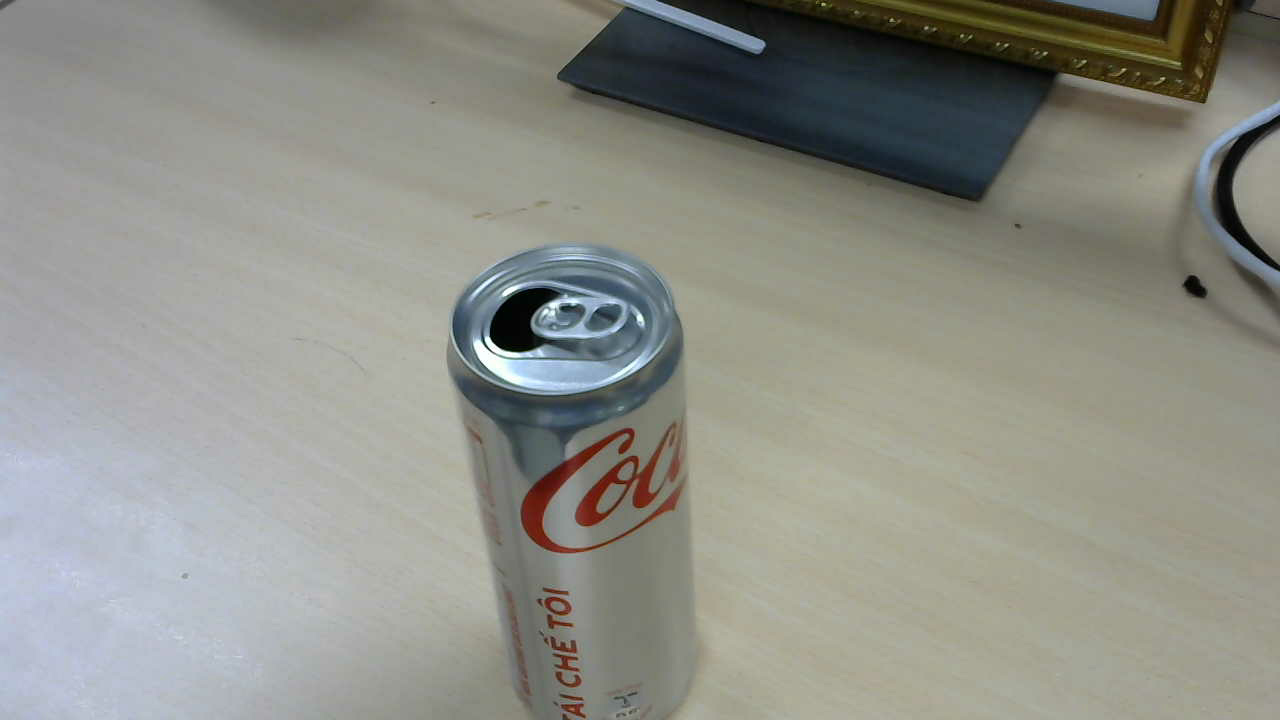Coca_Cola: (450, 246, 708, 702)
